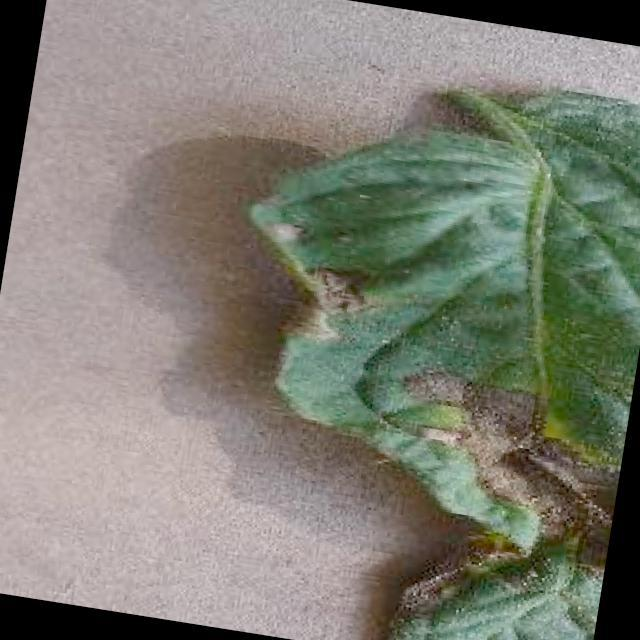Tomato Early blight leaf: (191, 47, 640, 640)
